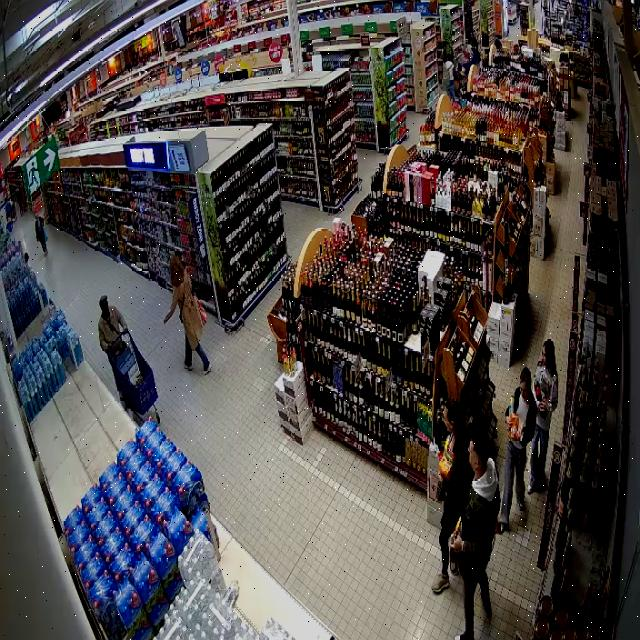article: (437, 446, 456, 482), (457, 552, 467, 575), (509, 414, 518, 439), (449, 548, 457, 574), (534, 377, 541, 400), (509, 396, 514, 417)
hands: (449, 533, 464, 552), (539, 401, 549, 413), (505, 415, 512, 431), (123, 328, 128, 336), (163, 319, 168, 324)
person: (451, 430, 500, 639), (432, 398, 472, 593), (497, 368, 535, 533), (164, 256, 209, 372), (527, 339, 558, 493), (99, 296, 130, 399)
